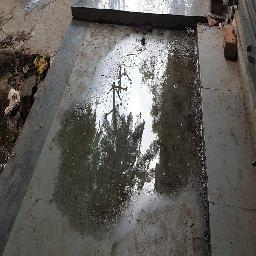water accumulation: (54, 26, 201, 236)
